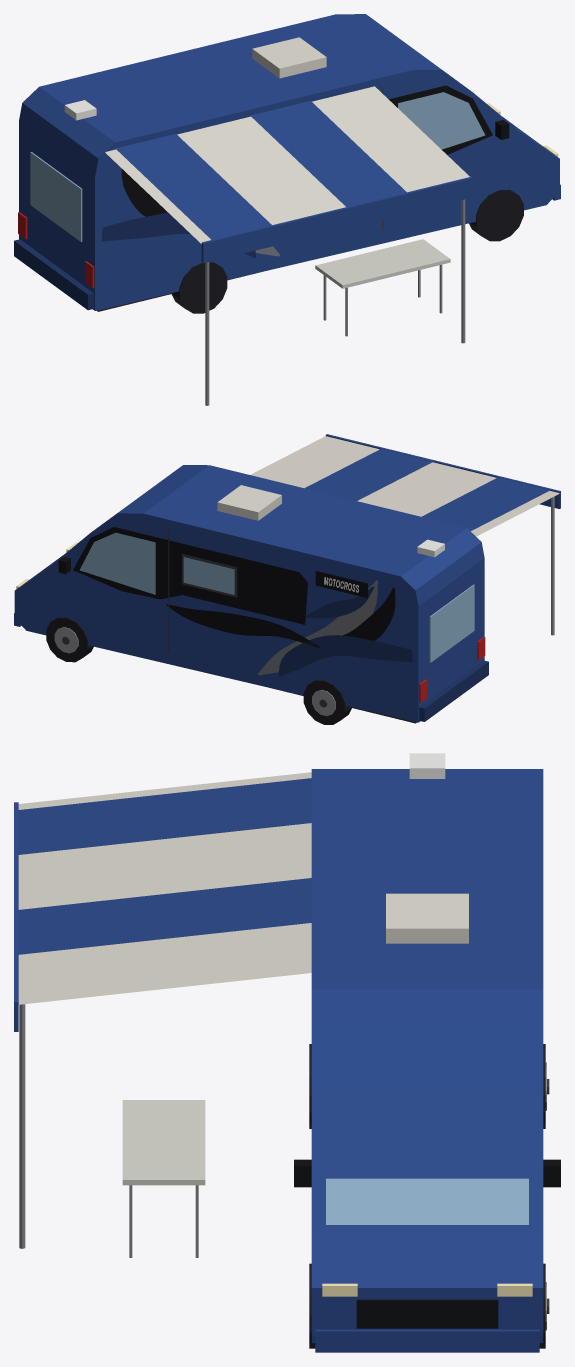
File: mx_van_long.glb
3 views of the same model, one above another, from view 1: azimuth 30°, elevation 25°; view 2: azimuth 150°, elevation 25°; view 3: azimuth 270°, elevation 25° (orthographic). The views are drawn at different scales.
Parts seen in each view (by area): view 1: Body, Awning, BikesOut; view 2: Body, Awning; view 3: Body, Awning, BikesOut.
Boxes of the visible parts, x1,y1,x2,y2 form: Body: (14,14,560,313); Awning: (105,86,472,405); BikesOut: (315,239,450,336); Body: (14,465,488,724); Awning: (250,434,560,635); Body: (294,753,560,1352); Awning: (14,772,311,1248); BikesOut: (122,1100,205,1257).
Size of the model in its own units: 7.02 by 2.86 by 4.63.
Materials: 16 (1 with a texture image).
